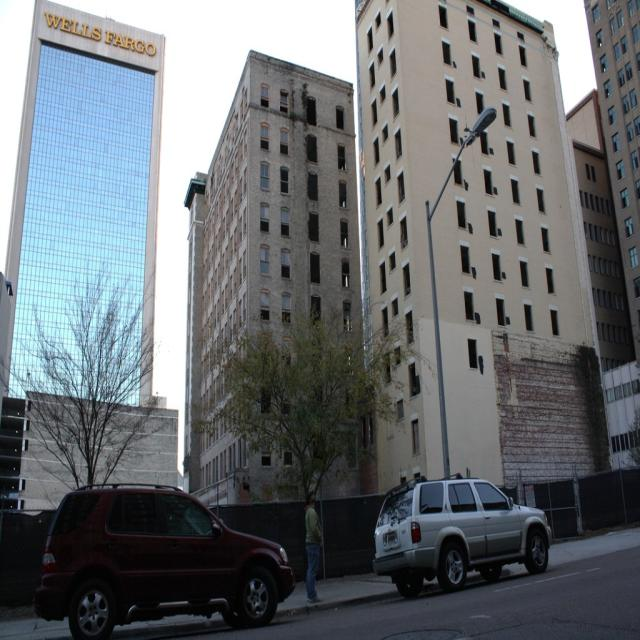car: (34, 477, 297, 638), (372, 471, 551, 594)
